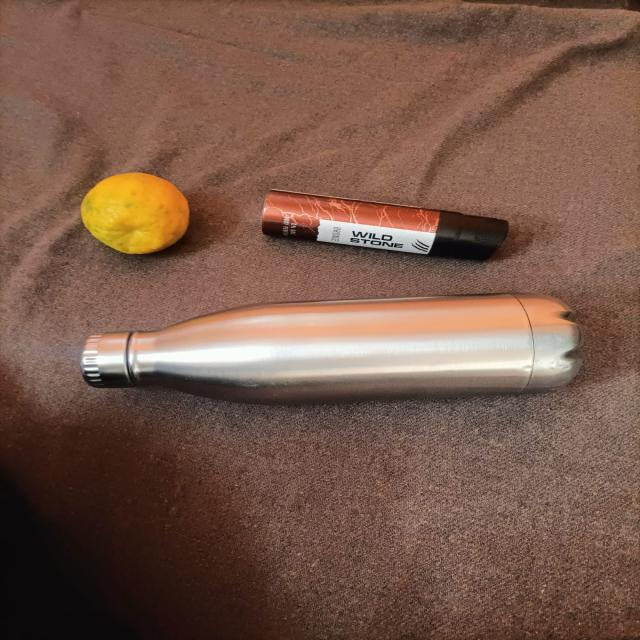bottle: (56, 285, 603, 431)
orange: (61, 165, 208, 269)
spray: (246, 174, 533, 275)
